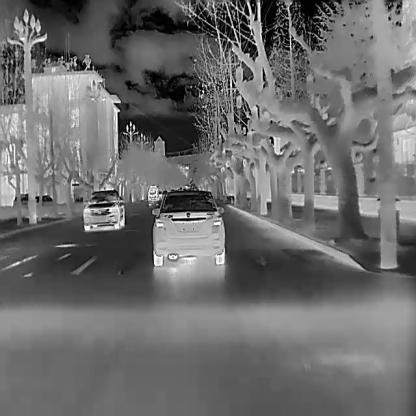car: (152, 189, 225, 266), (82, 189, 125, 230), (11, 192, 39, 205), (147, 186, 157, 202), (40, 193, 53, 201)
